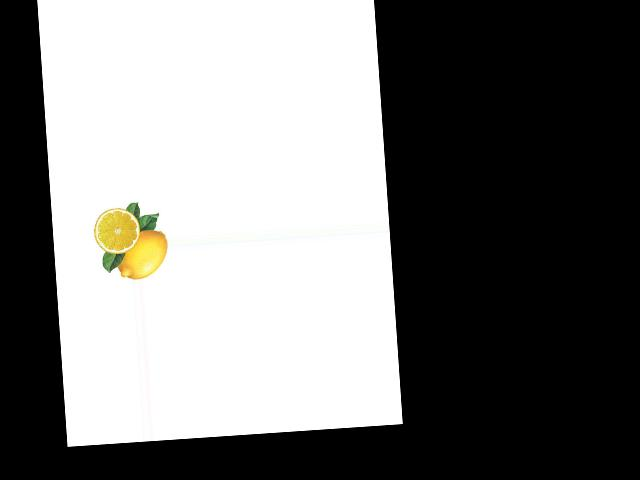lemon: (113, 226, 169, 279)
